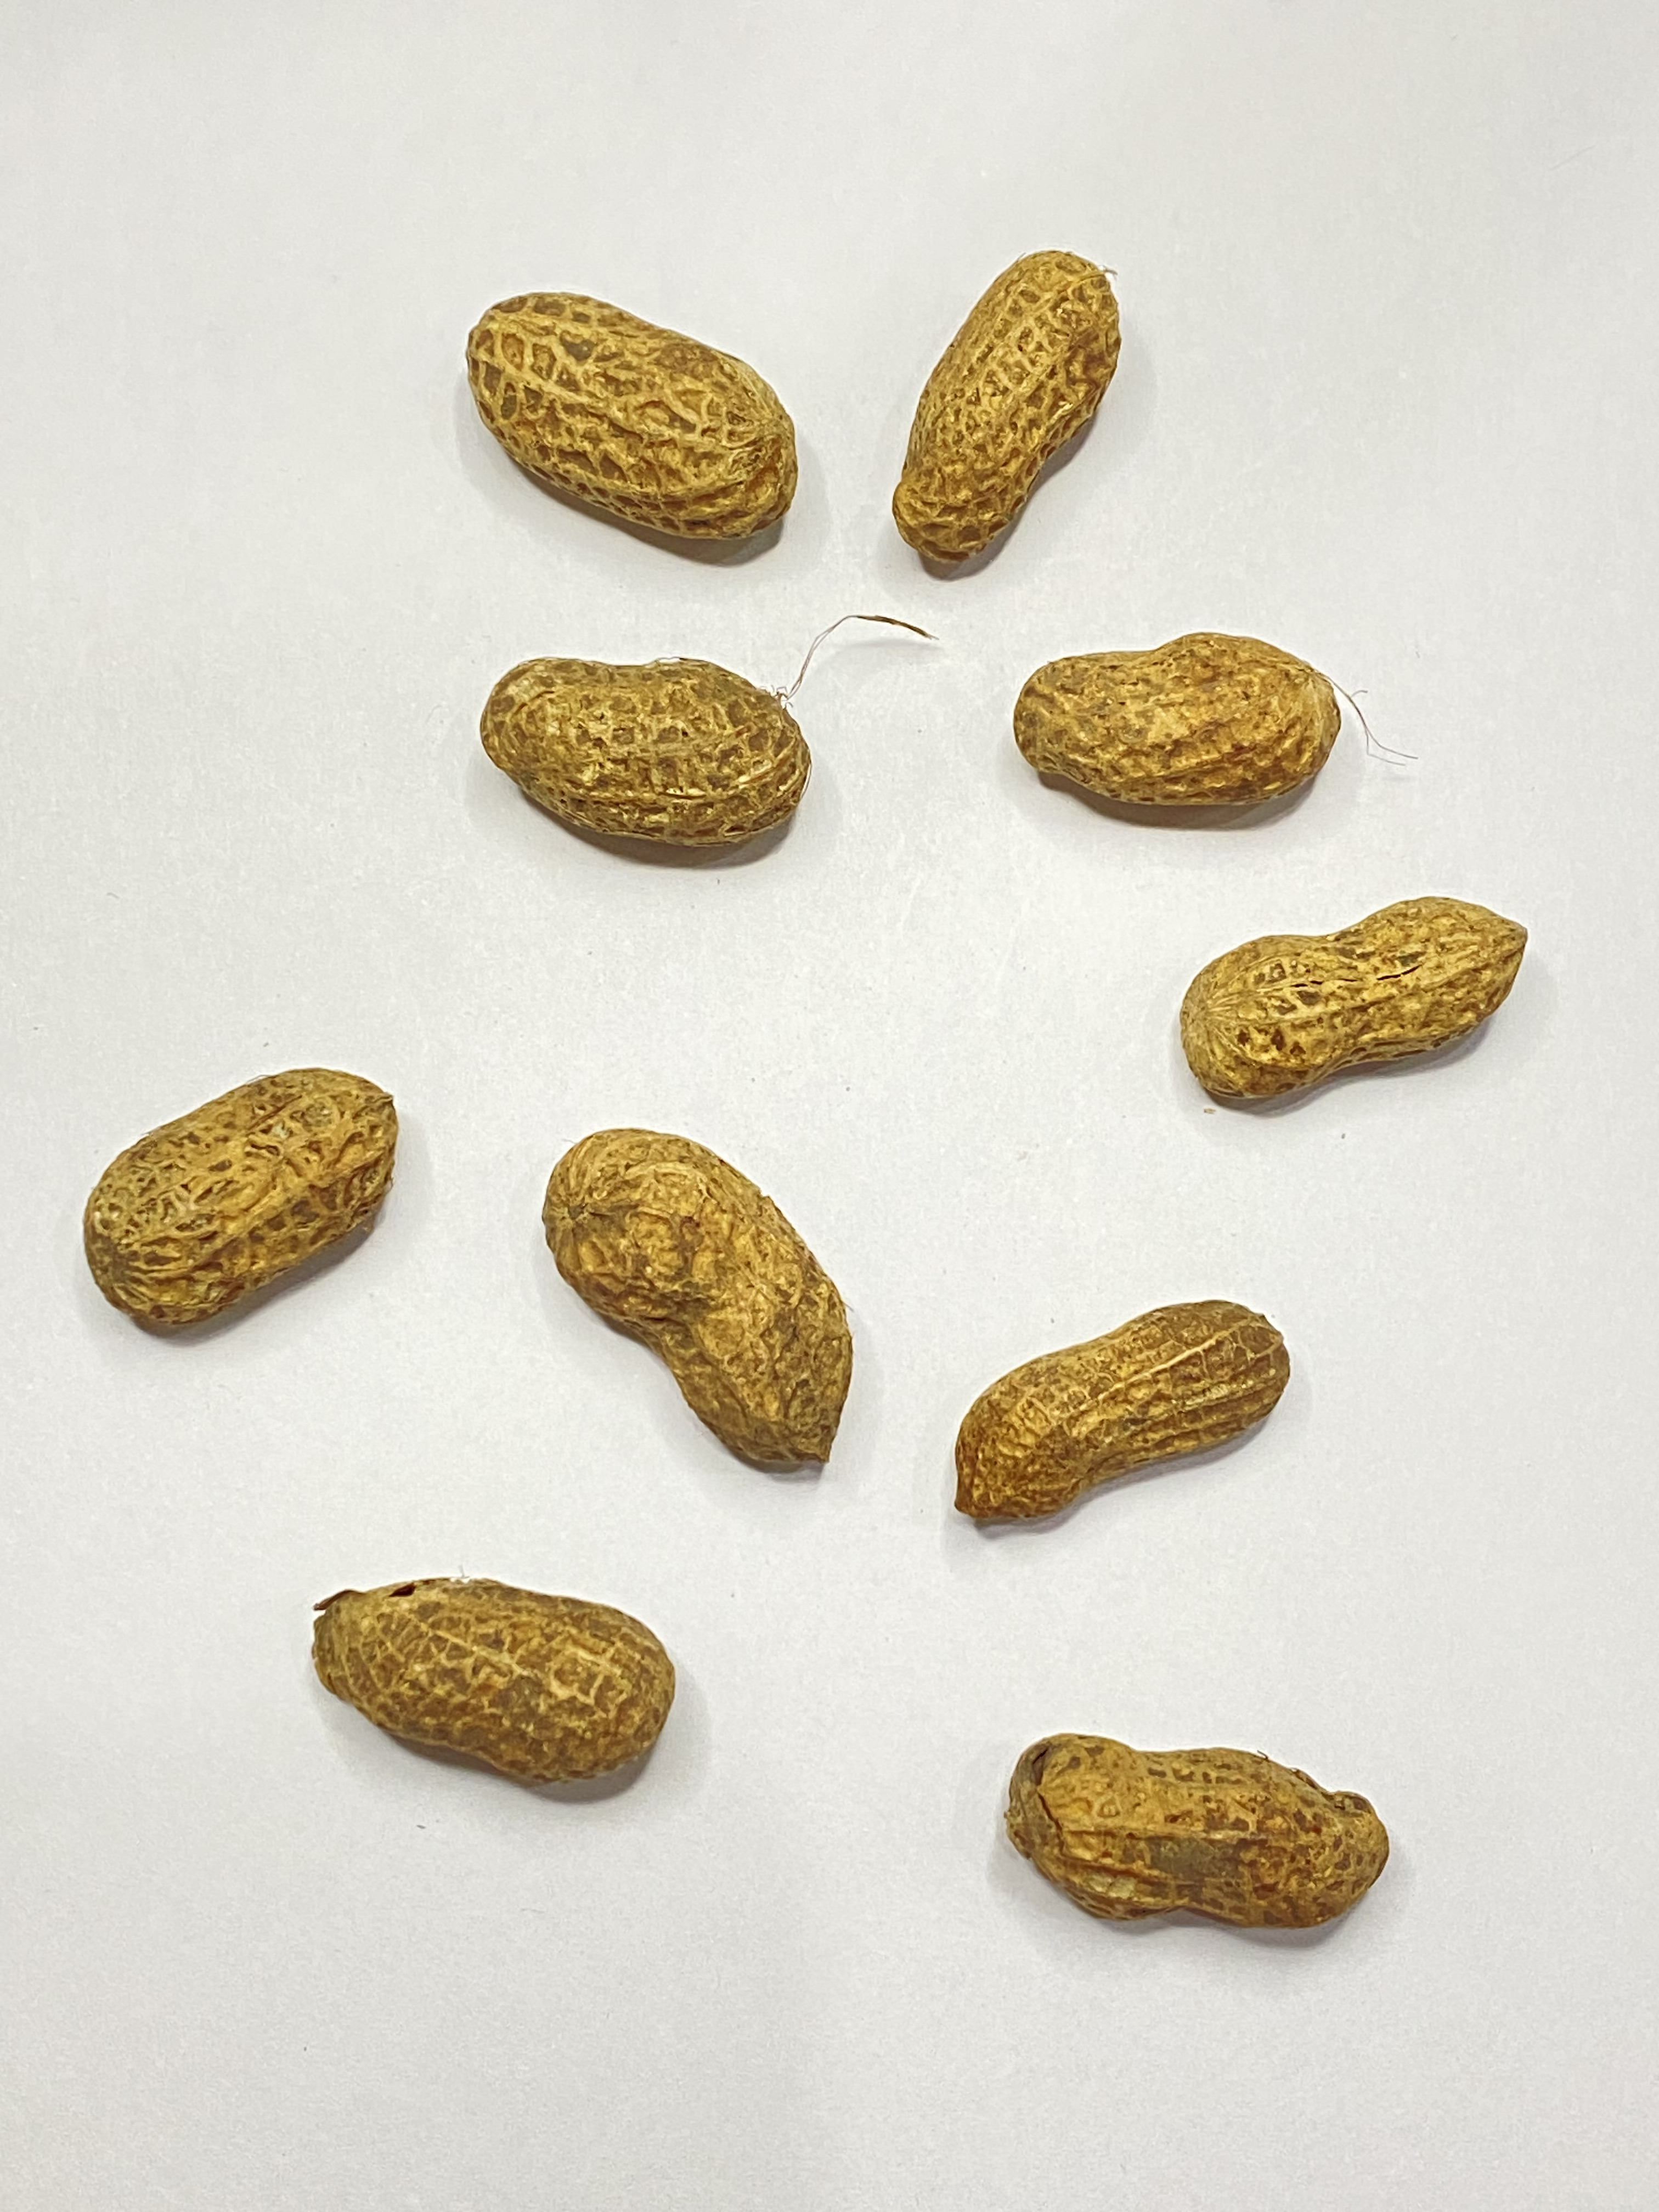kacang1: (291, 1522, 676, 1892), (77, 1040, 415, 1334), (469, 270, 803, 564), (467, 618, 828, 890), (992, 585, 1359, 841)
kacang2: (931, 1669, 1434, 1977), (533, 1099, 863, 1493), (1168, 873, 1565, 1134), (920, 1287, 1300, 1559), (870, 246, 1157, 561)
